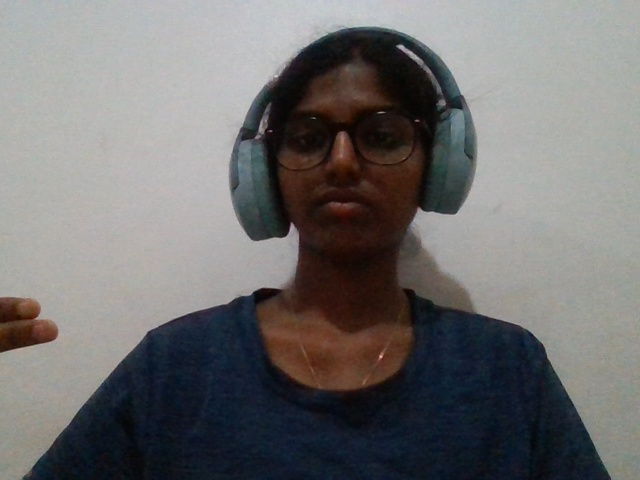H: (4, 281, 68, 366)
